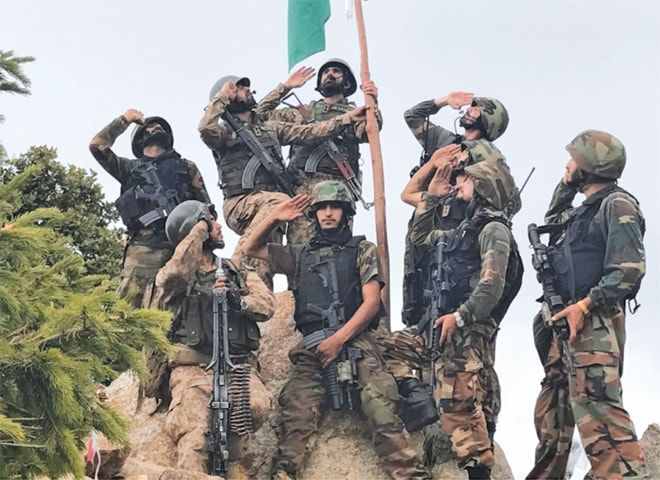gun: (273, 84, 393, 211), (509, 210, 589, 392), (200, 259, 246, 466), (303, 250, 354, 413), (209, 95, 290, 196), (415, 222, 459, 404), (111, 146, 181, 231)
uniform: (259, 169, 417, 464), (529, 131, 639, 462), (401, 165, 519, 457), (145, 190, 251, 457), (94, 90, 207, 295), (199, 74, 307, 285), (380, 63, 545, 179), (280, 47, 376, 217)
